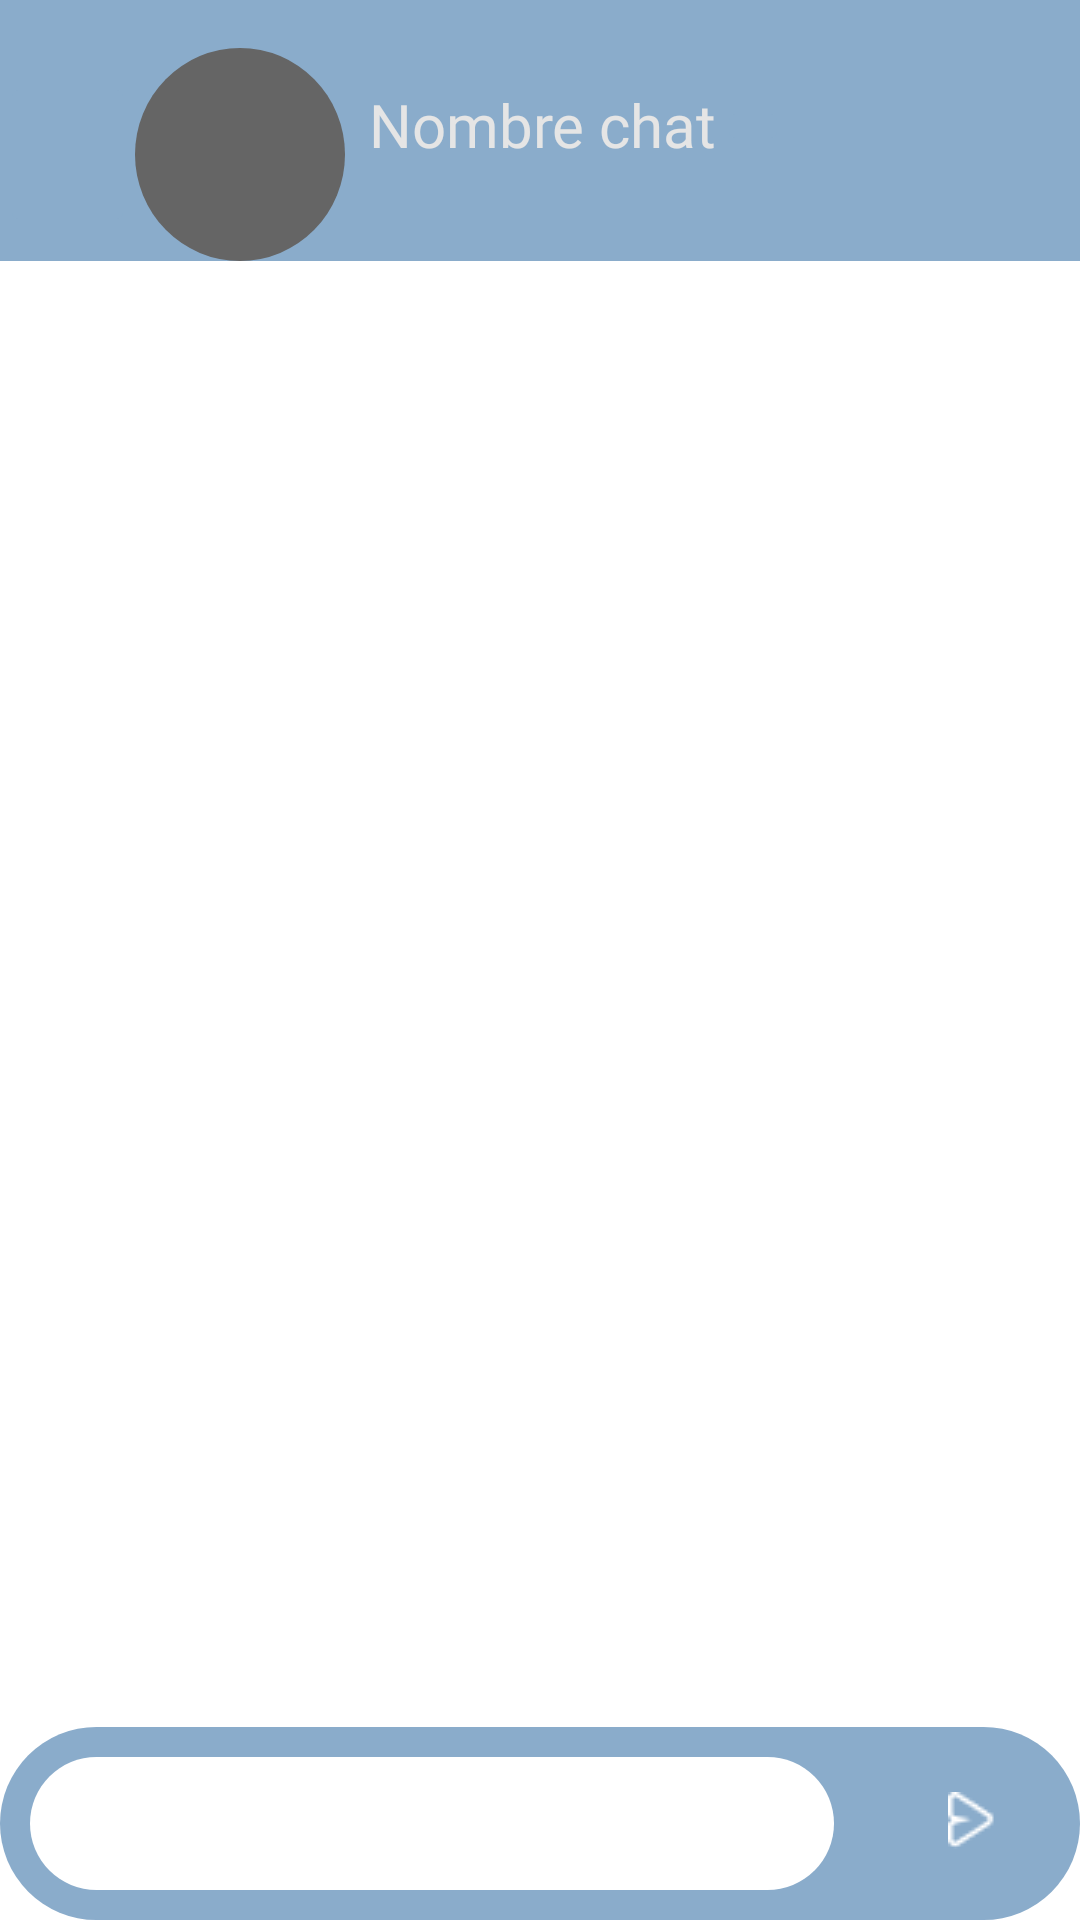

Icon bounding boxes for this 1080px×1920px phone screenshot, format {"x1": x1, "y1": y1, "x2": x2, "y2": y2}:
enviarchico: {"x1": 948, "y1": 1792, "x2": 994, "y2": 1847}
